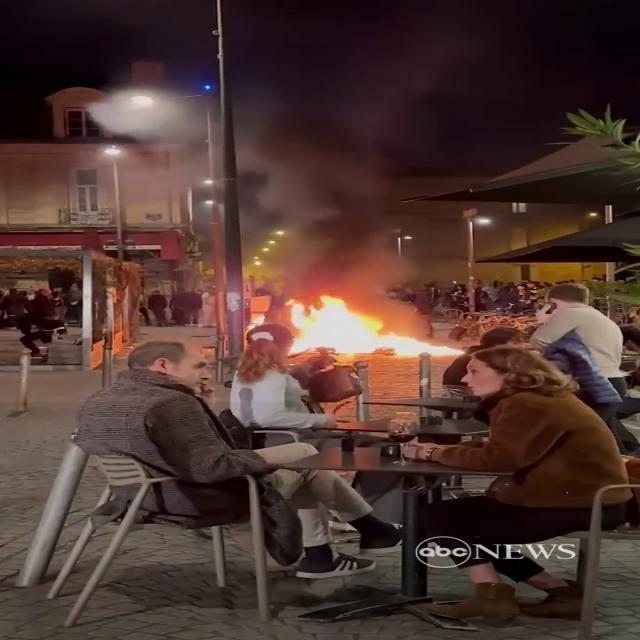Fire: (272, 292, 448, 362)
Smoke: (211, 0, 471, 288)
